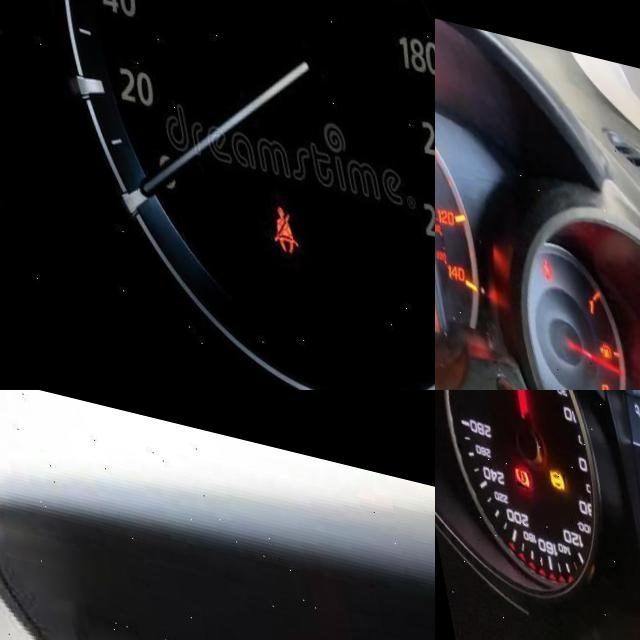Seat Belt: (252, 188, 287, 245)
